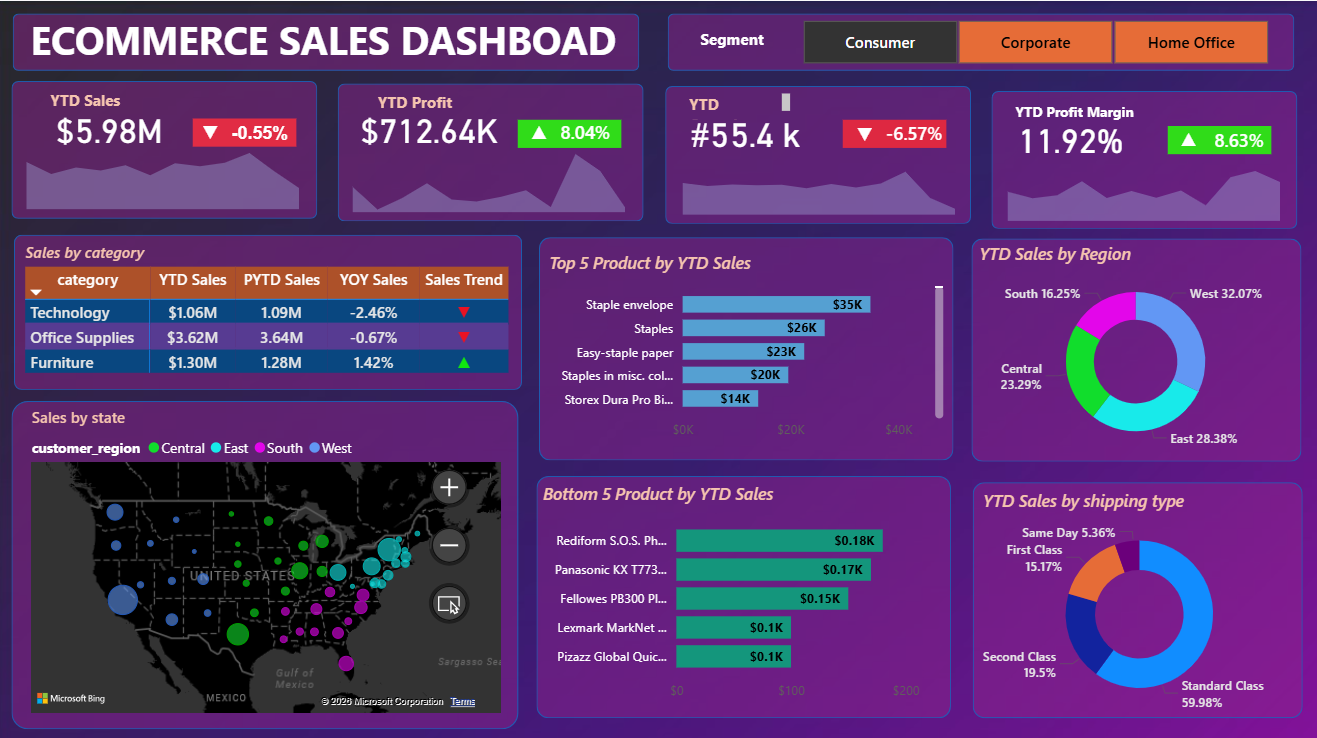

This screenshot's page, from the dashboard's own definition file:
{"tool":"powerbi","page":{"name":"Page 1","canvas":[1280,720],"ordinal":0},"visuals":[{"type":"shape","box":[15.1,15.1,612,54.9],"z":0},{"type":"textbox","box":[30.2,11,587.3,61.7],"z":1000},{"type":"shape","box":[16.5,76.8,295,131.7],"z":2000},{"type":"shape","box":[192.2,113.5,100,27.2],"z":3000},{"type":"card","fields":{"Values":["ecommerce_details.Sales Icon"]},"box":[169.5,109,80.2,40.9],"z":4000},{"type":"shape","box":[19.7,225.5,490.3,149.8],"z":5000},{"type":"card","fields":{"Values":["ecommerce_details.YTD Sales"]},"box":[37,100.2,148.2,46.7],"z":6000},{"type":"areaChart","fields":{"Category":["calendar.MONTH"],"Y":["Sum(ecommerce_details.sales_per_order)"]},"box":[16.5,127.6,292.3,78.2],"z":7000},{"type":"card","fields":{"Values":["ecommerce_details.YOY Sales"]},"box":[216.4,105.9,81.7,45.4],"z":8000},{"type":"textbox","box":[49.4,81,104.3,46.7],"z":9000},{"type":"shape","box":[332.1,76.8,295,133.1],"z":10000},{"type":"shape","box":[505.9,114,100.2,27.4],"z":11000},{"type":"card","fields":{"Values":["ecommerce_details.Profit Icon"]},"box":[485.8,109,80.2,39.3],"z":12000},{"type":"card","fields":{"Values":["ecommerce_details.YTD Profit"]},"box":[345.8,100.2,148.2,46.7],"z":13000},{"type":"areaChart","fields":{"Category":["calendar.MONTH"],"Y":["Sum(ecommerce_details.profit_per_order)"]},"box":[331.4,130.1,292.1,78.7],"z":14000},{"type":"card","fields":{"Values":["ecommerce_details.YOY Profit"]},"box":[531.2,105.9,80.2,45.4],"z":15000},{"type":"textbox","box":[365,82.3,104.3,46.7],"z":16000},{"type":"shape","box":[647.7,76.8,296.4,133.1],"z":17000},{"type":"shape","box":[819.3,114.4,99.9,27.2],"z":18000},{"type":"card","fields":{"Values":["ecommerce_details.Qty Icon"]},"box":[811.8,115.9,57.5,28.8],"z":19000},{"type":"card","fields":{"Values":["ecommerce_details.YTD concatenated Qty"]},"box":[651.4,103.8,148.3,46.9],"z":20000},{"type":"areaChart","fields":{"Category":["calendar.MONTH"],"Y":["Sum(ecommerce_details.order_quantity)"]},"box":[650.4,131.7,290.9,78.2],"z":21000},{"type":"card","fields":{"Values":["ecommerce_details.YOY Qty"]},"box":[848.1,106.8,80.2,45.4],"z":22000},{"type":"textbox","box":[666.5,84.1,107,34.8],"z":23000},{"type":"shape","box":[961.9,76.8,297.8,131.7],"z":24000},{"type":"shape","box":[1133.2,120.8,99.9,27.2],"z":25000},{"type":"card","fields":{"Values":["ecommerce_details.Profit margin Icon"]},"box":[1124.4,121.1,57.5,28.8],"z":26000},{"type":"card","fields":{"Values":["ecommerce_details.YTD Profit margin"]},"box":[965.2,110.2,148.3,46.9],"z":27000},{"type":"areaChart","fields":{"Category":["calendar.MONTH"],"Y":["ecommerce_details.Profit margin"]},"box":[963.3,130.4,292.3,79.6],"z":28000},{"type":"card","fields":{"Values":["ecommerce_details.YOY Profit margin"]},"box":[1162,113.2,80.2,45.4],"z":29000},{"type":"textbox","box":[980.7,92.3,138,34.8],"z":30000},{"type":"pivotTable","title":"Sales by category","fields":{"Rows":["ecommerce_details.category_name"],"Values":["ecommerce_details.YTD Sales","ecommerce_details.PYTD Sales","ecommerce_details.YOY Sales","ecommerce_details.Sales Icon"]},"box":[25.7,231.5,479.7,139.2],"z":31000},{"type":"shape","box":[19.2,385.6,489.9,317],"z":32000},{"type":"map","title":"Sales by state","fields":{"Y":["us_state_long_lat_codes.latitude"],"X":["us_state_long_lat_codes.longitude"],"Size":["ecommerce_details.YTD Sales"],"Series":["ecommerce_details.customer_region"]},"box":[30.8,390.8,463.1,301.5],"z":33000},{"type":"shape","box":[522.8,225,403.4,218.2],"z":34000},{"type":"barChart","title":"Top 5 Product by YTD Sales","fields":{"Category":["ecommerce_details.product_name"],"Y":["ecommerce_details.YTD Sales"]},"box":[531,241.5,391.1,199],"z":35000},{"type":"shape","box":[522.8,458.3,402.1,234.6],"z":36000},{"type":"barChart","title":"Bottom 5 Product by YTD Sales","fields":{"Category":["ecommerce_details.product_name"],"Y":["ecommerce_details.YTD Sales"]},"box":[524.6,464.6,393.8,220],"z":37000},{"type":"shape","box":[942.7,225,318.4,219.6],"z":38000},{"type":"donutChart","title":"YTD Sales by Region","fields":{"Category":["ecommerce_details.customer_region"],"Y":["ecommerce_details.YTD Sales"]},"box":[946.2,232.3,312.3,209.2],"z":39000},{"type":"shape","box":[942.7,458.3,319.7,234.6],"z":40000},{"type":"donutChart","title":"YTD Sales by shipping type","fields":{"Y":["ecommerce_details.YTD Sales"],"Category":["ecommerce_details.shipping_type"]},"box":[946.8,458.3,312.9,230.5],"z":41000},{"type":"shape","box":[647.7,13.7,607.9,54.9],"z":42000},{"type":"slicer","fields":{"Values":["ecommerce_details.customer_segment"]},"box":[755.4,12.3,498.5,55.4],"z":43000},{"type":"textbox","box":[675.1,26.1,85.1,39.8],"z":44000}]}

Visuals, with their boxes in screenshot pixels (x1, y1, x2, y2), scaled from the page's 1280x720 canvas onto the 1317x738 screenshot:
shape: left=16, top=15, right=645, bottom=72
textbox: left=31, top=11, right=635, bottom=75
shape: left=17, top=79, right=321, bottom=214
shape: left=198, top=116, right=301, bottom=144
card - ecommerce_details.Sales Icon: left=174, top=112, right=257, bottom=154
shape: left=20, top=231, right=525, bottom=385
card - ecommerce_details.YTD Sales: left=38, top=103, right=191, bottom=151
areaChart - calendar.MONTH x Sum(ecommerce_details.sales_per_order): left=17, top=131, right=318, bottom=211
card - ecommerce_details.YOY Sales: left=223, top=109, right=307, bottom=155
textbox: left=51, top=83, right=158, bottom=131
shape: left=342, top=79, right=645, bottom=215
shape: left=521, top=117, right=624, bottom=145
card - ecommerce_details.Profit Icon: left=500, top=112, right=582, bottom=152
card - ecommerce_details.YTD Profit: left=356, top=103, right=508, bottom=151
areaChart - calendar.MONTH x Sum(ecommerce_details.profit_per_order): left=341, top=133, right=642, bottom=214
card - ecommerce_details.YOY Profit: left=547, top=109, right=629, bottom=155
textbox: left=376, top=84, right=483, bottom=132
shape: left=666, top=79, right=971, bottom=215
shape: left=843, top=117, right=946, bottom=145
card - ecommerce_details.Qty Icon: left=835, top=119, right=894, bottom=148
card - ecommerce_details.YTD concatenated Qty: left=670, top=106, right=823, bottom=154
areaChart - calendar.MONTH x Sum(ecommerce_details.order_quantity): left=669, top=135, right=969, bottom=215
card - ecommerce_details.YOY Qty: left=873, top=109, right=955, bottom=156
textbox: left=686, top=86, right=796, bottom=122
shape: left=990, top=79, right=1296, bottom=214
shape: left=1166, top=124, right=1269, bottom=152
card - ecommerce_details.Profit margin Icon: left=1157, top=124, right=1216, bottom=154
card - ecommerce_details.YTD Profit margin: left=993, top=113, right=1146, bottom=161
areaChart - calendar.MONTH x ecommerce_details.Profit margin: left=991, top=134, right=1292, bottom=215
card - ecommerce_details.YOY Profit margin: left=1196, top=116, right=1278, bottom=163
textbox: left=1009, top=95, right=1151, bottom=130
"Sales by category" pivotTable: left=26, top=237, right=520, bottom=380
shape: left=20, top=395, right=524, bottom=720
"Sales by state" map: left=32, top=401, right=508, bottom=710
shape: left=538, top=231, right=953, bottom=454
"Top 5 Product by YTD Sales" barChart: left=546, top=248, right=949, bottom=452
shape: left=538, top=470, right=952, bottom=710
"Bottom 5 Product by YTD Sales" barChart: left=540, top=476, right=945, bottom=702
shape: left=970, top=231, right=1298, bottom=456
"YTD Sales by Region" donutChart: left=974, top=238, right=1295, bottom=453
shape: left=970, top=470, right=1299, bottom=710
"YTD Sales by shipping type" donutChart: left=974, top=470, right=1296, bottom=706
shape: left=666, top=14, right=1292, bottom=70
slicer - ecommerce_details.customer_segment: left=777, top=13, right=1290, bottom=69
textbox: left=695, top=27, right=782, bottom=68
